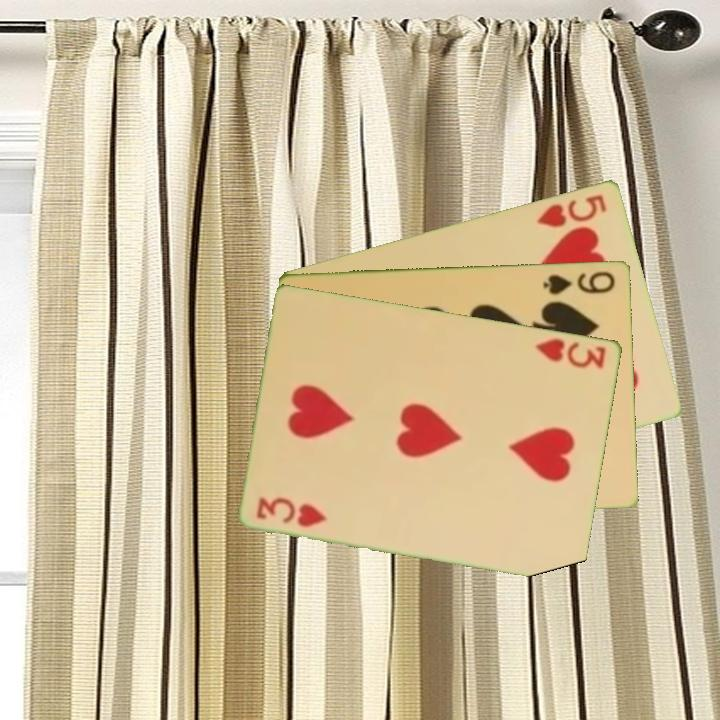3h: (253, 493, 331, 530), (533, 334, 610, 371)
5h: (533, 190, 610, 230)
9s: (540, 267, 618, 297)
